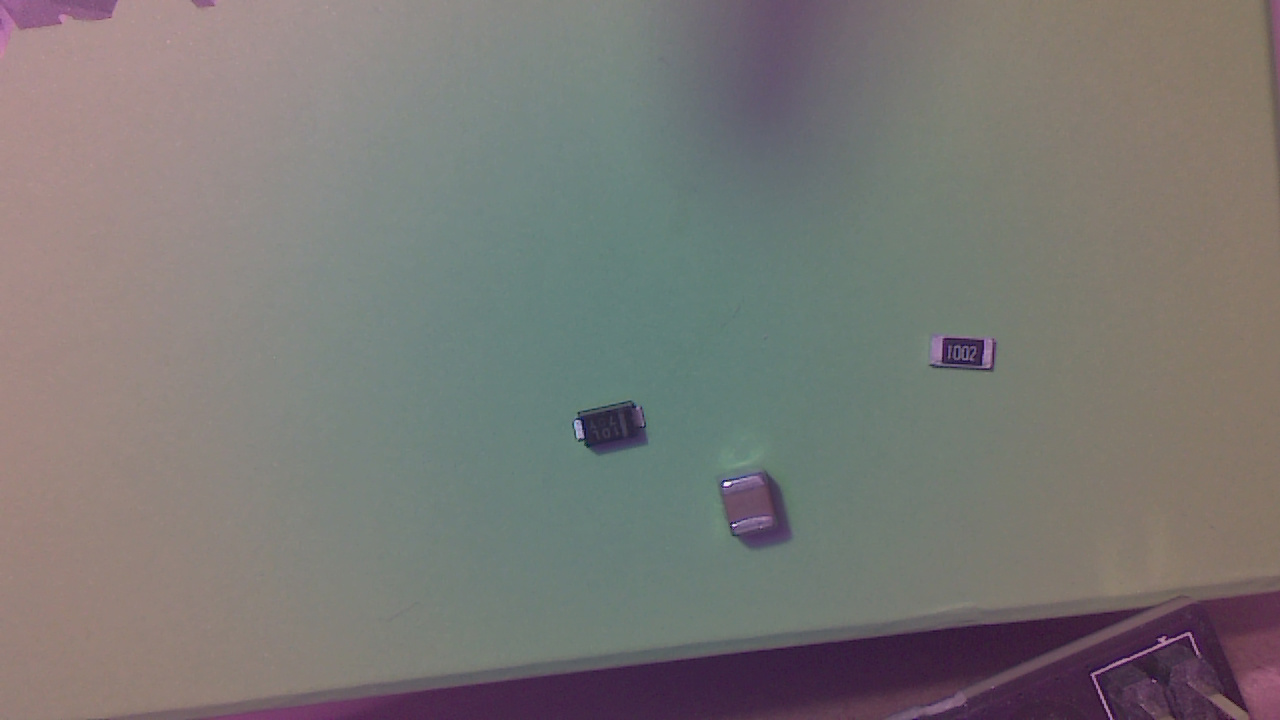Condensator: (720, 479, 787, 543)
Diode: (576, 406, 652, 455)
Resistor: (931, 339, 1003, 381)
